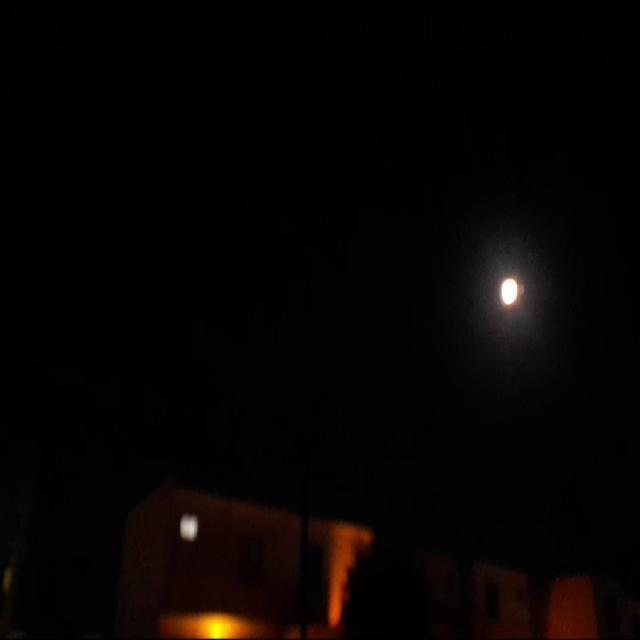moon: (499, 263, 522, 297)
